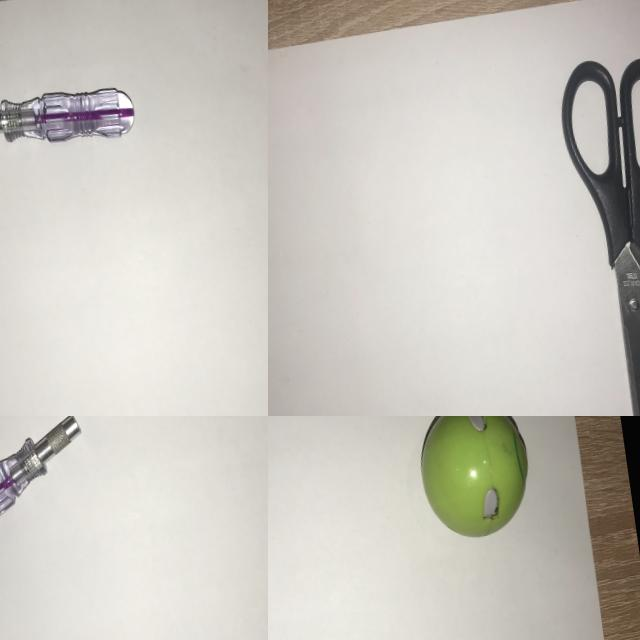scissors: (547, 37, 640, 416)
screwdriver: (0, 416, 101, 561), (0, 68, 147, 166)
toy: (402, 416, 544, 554)
